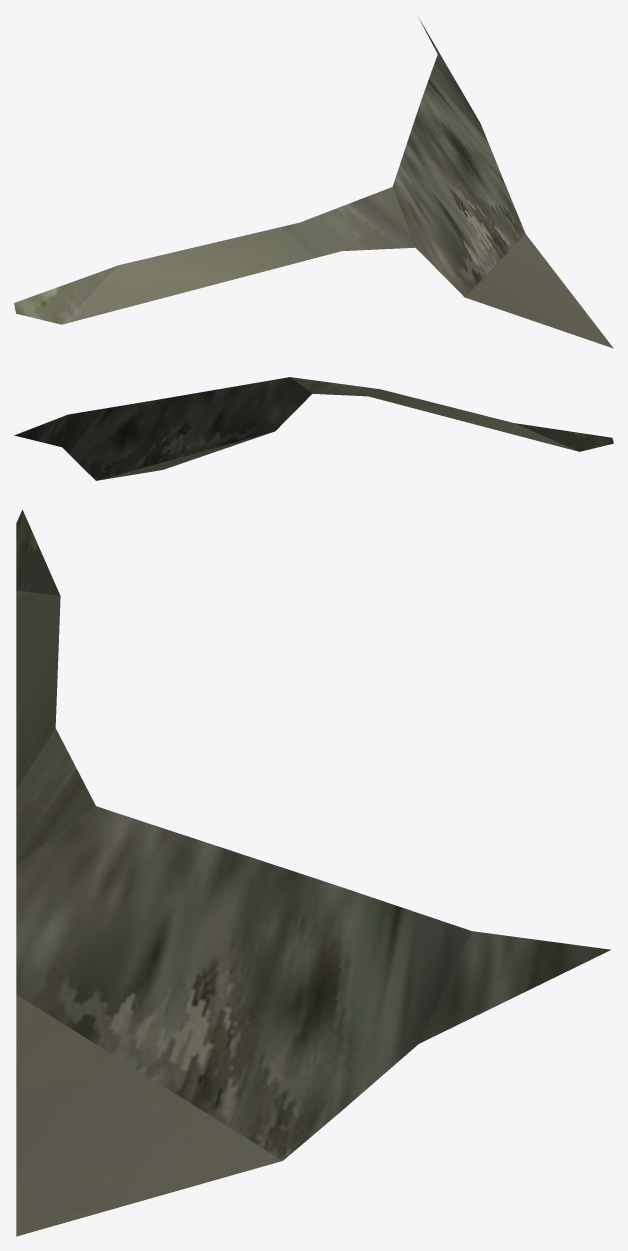
3 renders of one model, top to bottom at view 1: azimuth 30°, elevation 25°; view 2: azimuth 150°, elevation 25°; view 3: azimuth 270°, elevation 25°, orthographic. The views are drawn at different scales.
Size of the model in its own units: 2.95 by 0.8959 by 1.68.
1 material, 1 textured.
